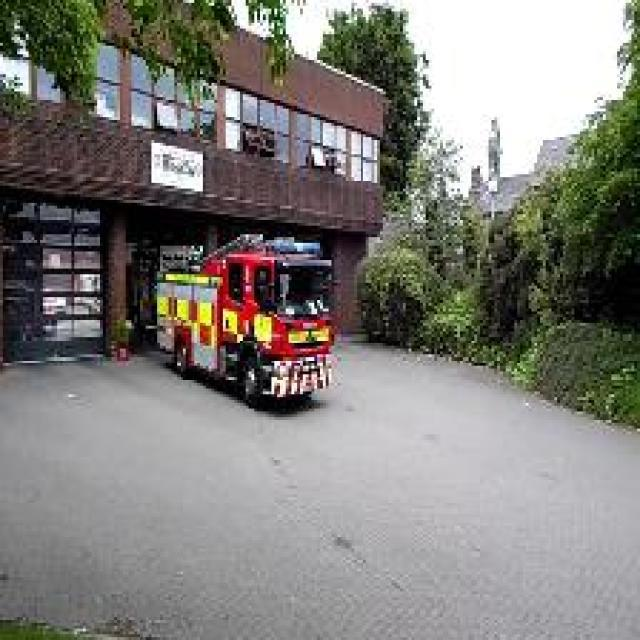emergency: (148, 228, 340, 408)
